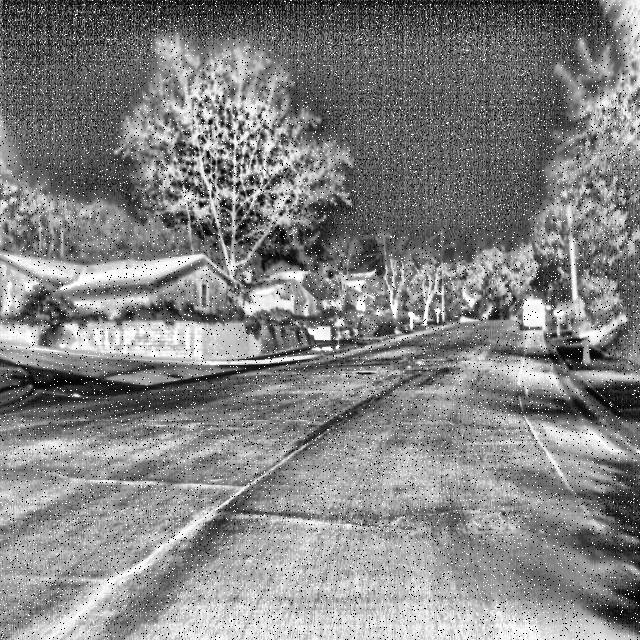car: (518, 293, 553, 342)
